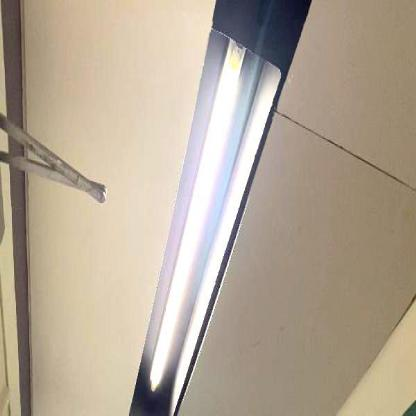light_on: (142, 35, 254, 397)
